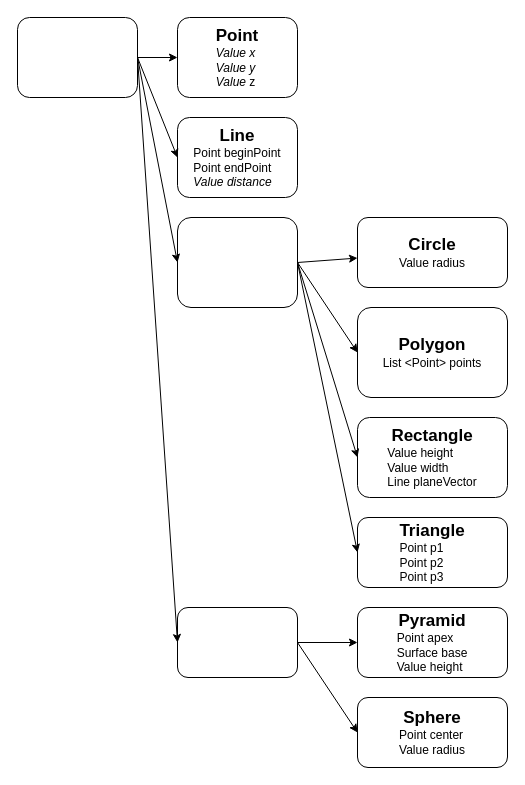
The diagram is 525 pixels wide and 785 high, and some of its shapes have lost their labels. Here are the shapes that lost their labels. From the top down, the centre of each, then its label:
At (x=77, y=57): "Object Name Color".
At (x=237, y=262): "Surface Point center Line normal Value perimeter Value area".
At (x=237, y=642): "Shape3D Value volume Value surfaceArea".
